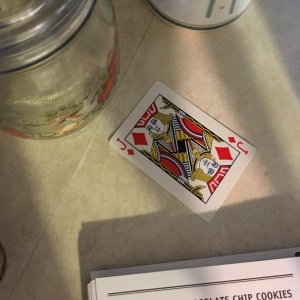card: (108, 80, 256, 220)
